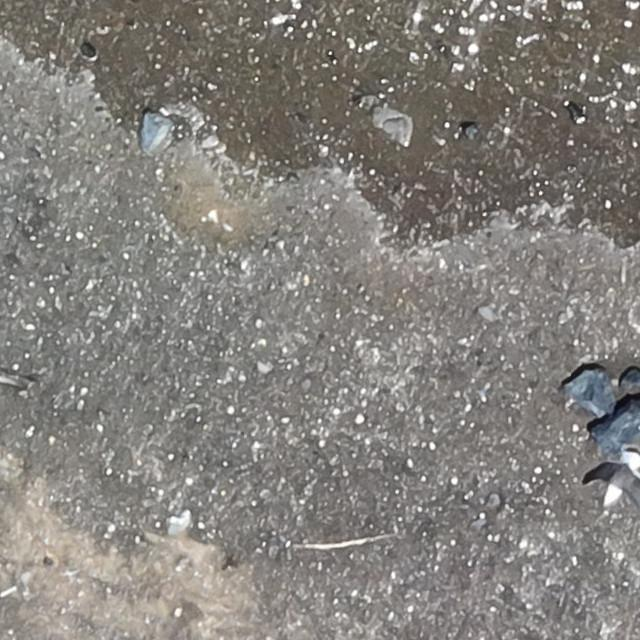F: (590, 444, 638, 506)
